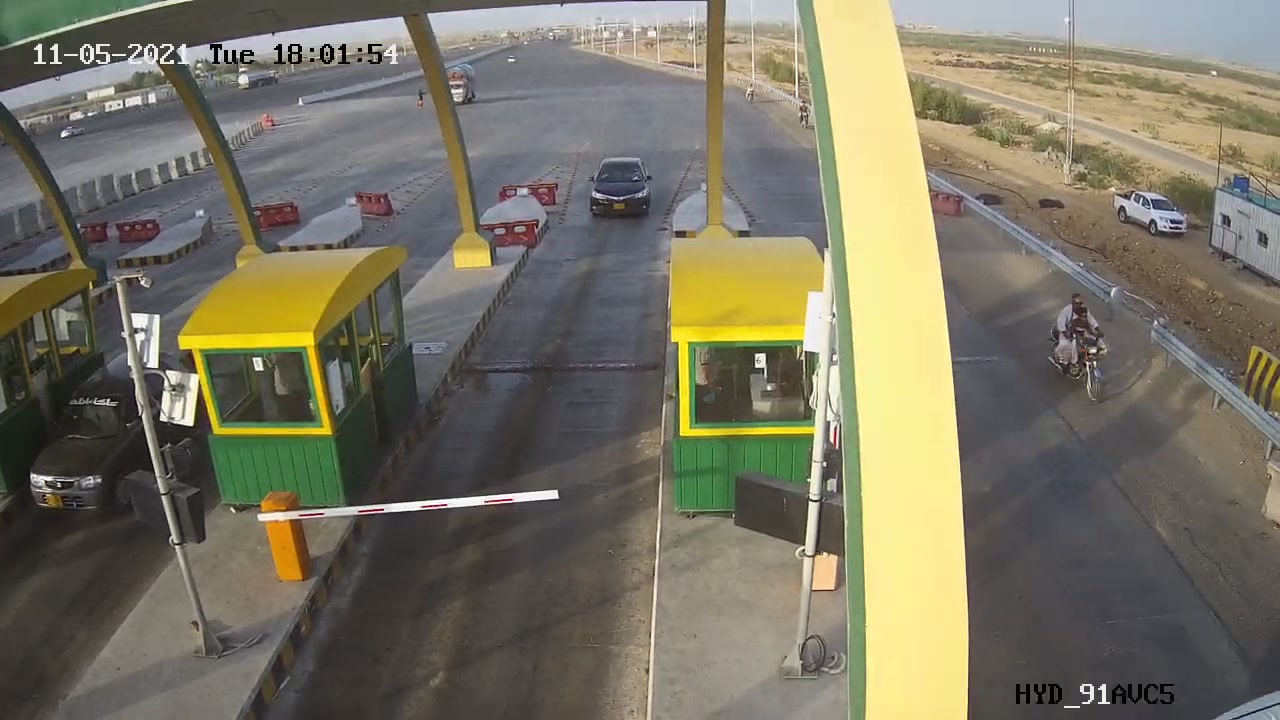F1: (579, 149, 661, 231)
